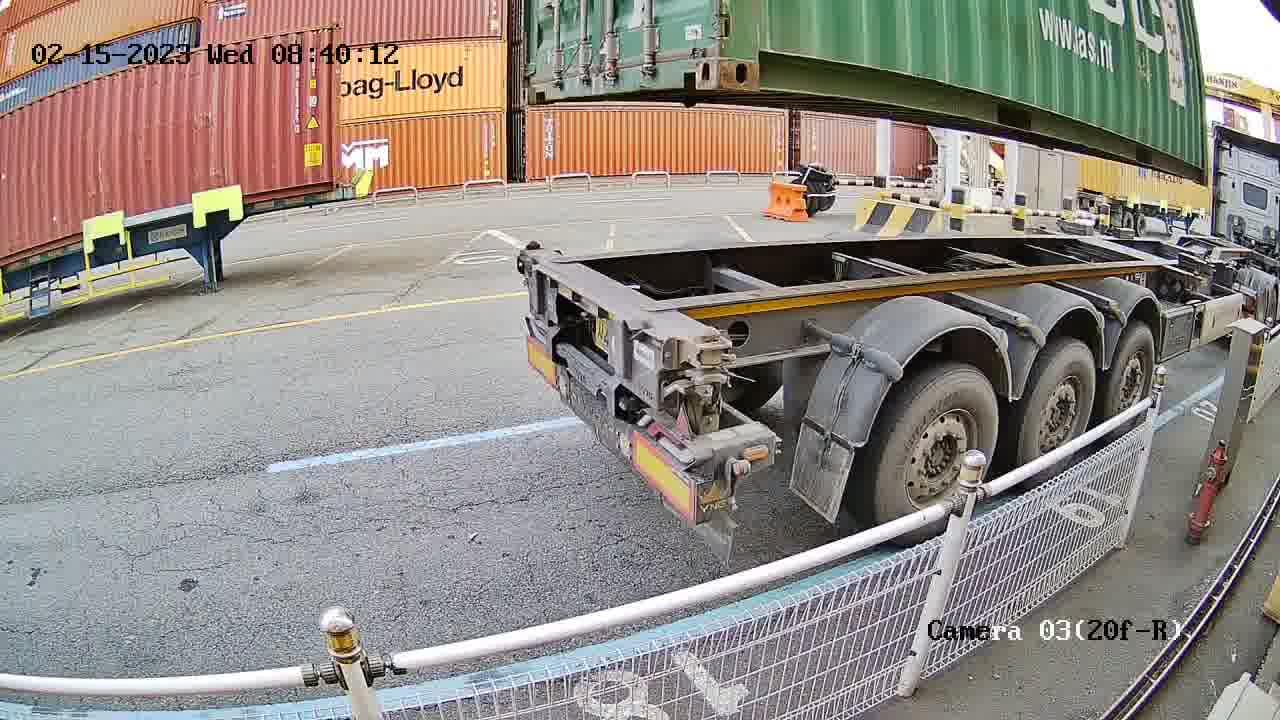Chassis: (523, 249, 718, 419)
Cone: (686, 327, 744, 407), (516, 238, 541, 279)
Hole_L: (718, 17, 800, 92), (522, 49, 557, 103)
Hole_R: (655, 16, 720, 88)
Tire: (876, 371, 1000, 519), (1024, 345, 1097, 462), (1105, 327, 1157, 419)
